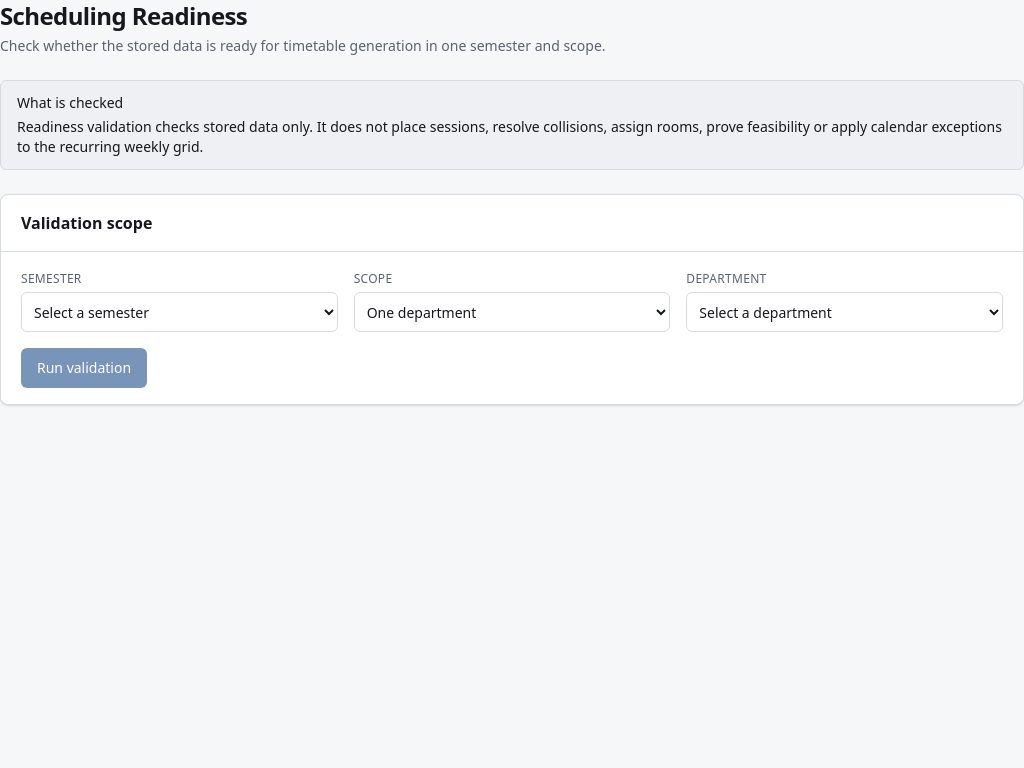
readiness screen › omits department when the whole college is validated
Select "2026–2027 · First semester" in the dropdown labelled "Semester" at (179, 312), box 21,292 -> 338,332
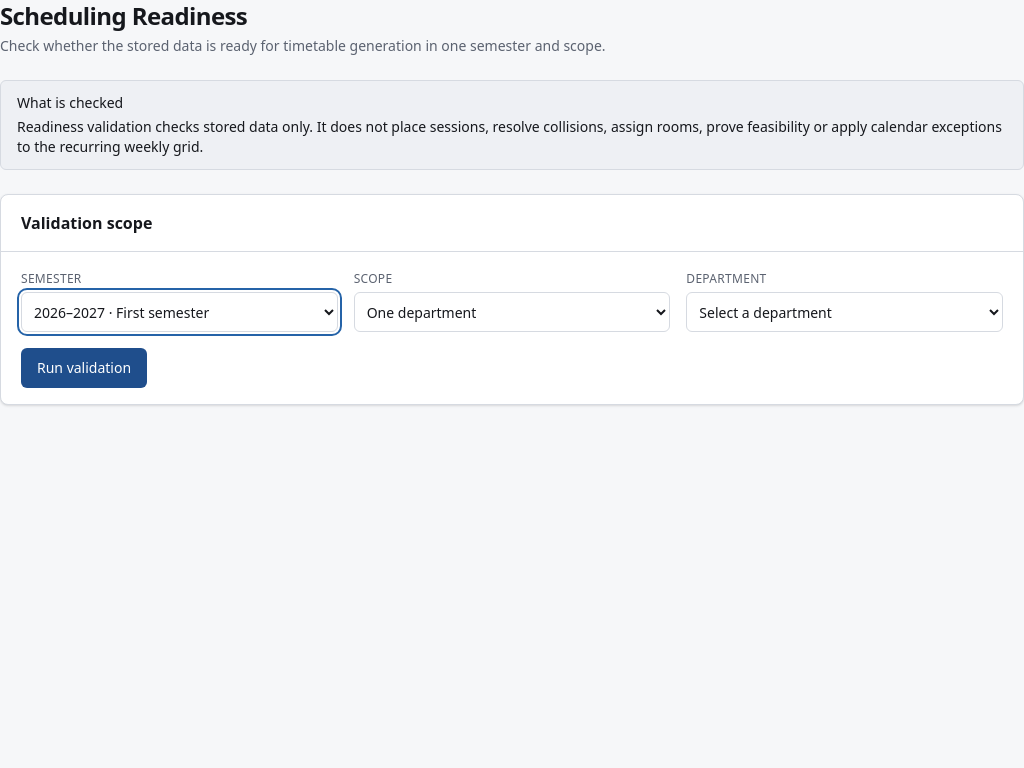
Select "Whole college" in the dropdown labelled "Scope" at (512, 312), box 354,292 -> 670,332
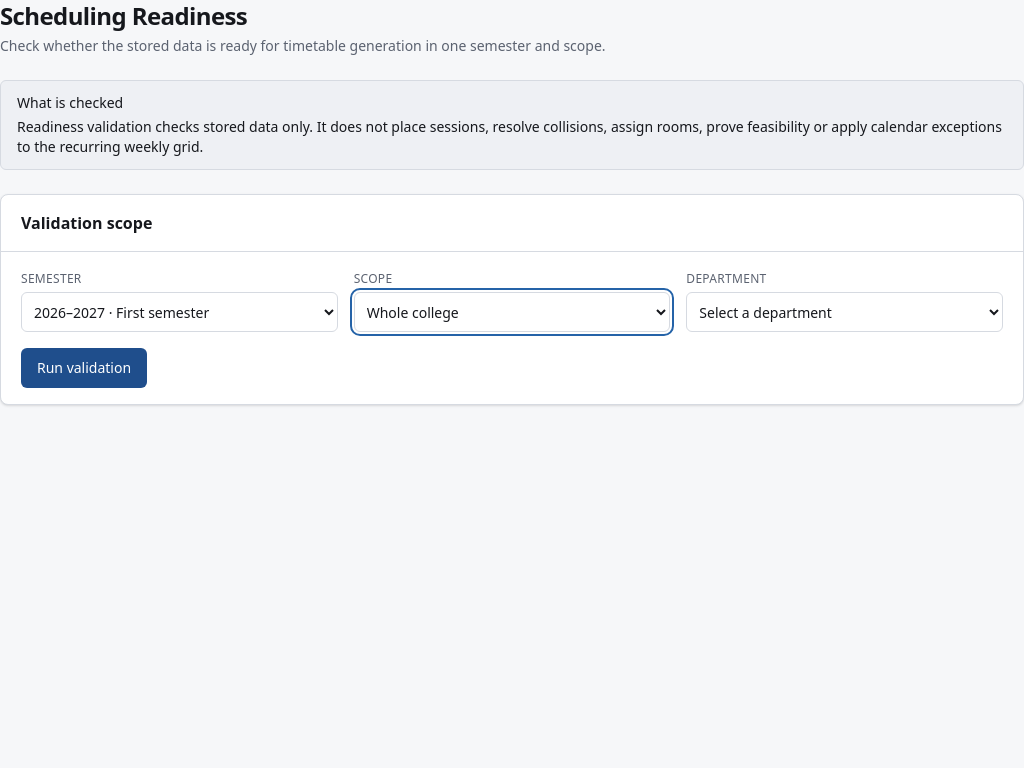
Click the button "Run validation".
click(84, 368)  # box 21,348 -> 147,388
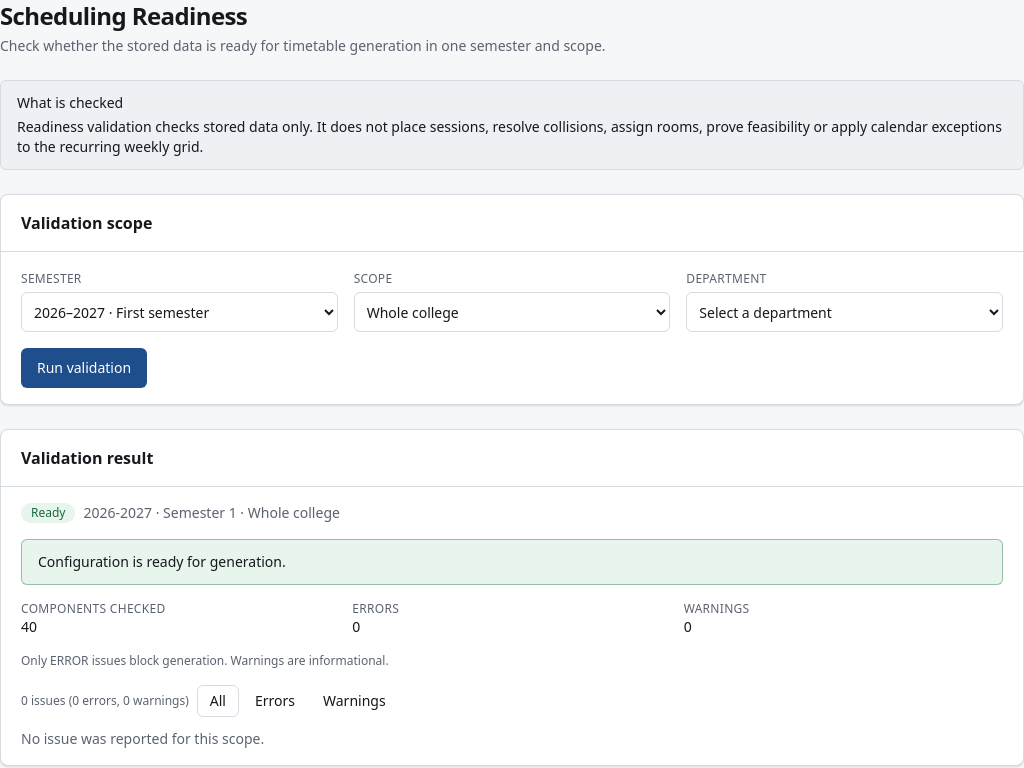
Result: the text "Configuration is ready for generation." is shown at 38,552 -> 286,571
